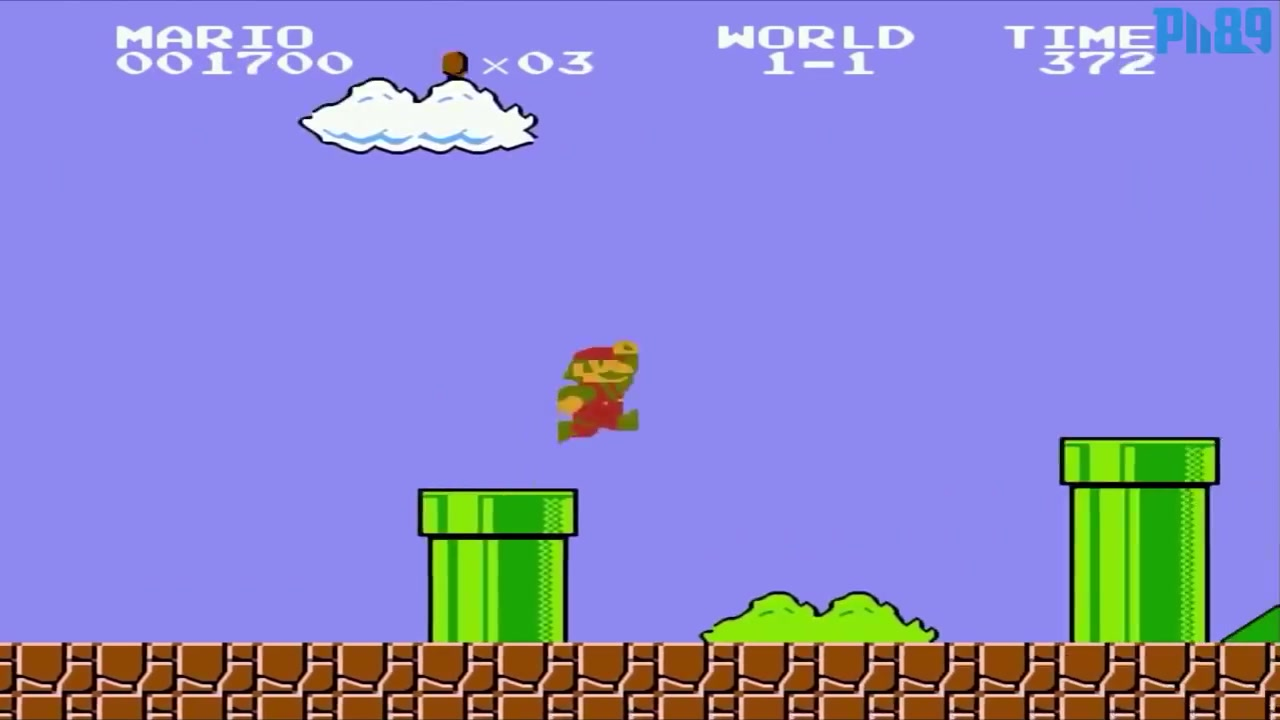mario: (547, 329, 652, 454)
